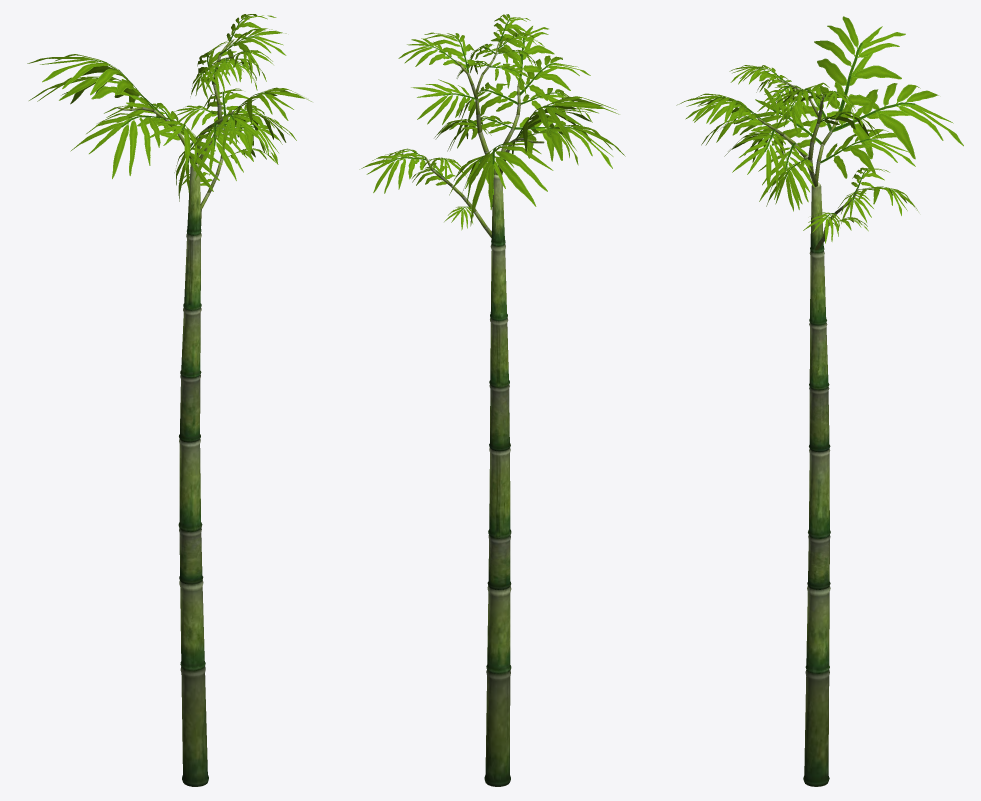
File: bamboo_a.glb
3 views of the same model, side by side, from view 1: azimuth 30°, elevation 25°; view 2: azimuth 150°, elevation 25°; view 3: azimuth 270°, elevation 25° (orthographic). The views are drawn at different scales.
Parts seen in each view (by area): view 1: Forest_bamboo_a; view 2: Forest_bamboo_a; view 3: Forest_bamboo_a.
Boxes of the visible parts, x1,y1,x2,y2 form: Forest_bamboo_a: (27, 14, 311, 786); Forest_bamboo_a: (359, 14, 625, 786); Forest_bamboo_a: (676, 16, 963, 786).
Bounding box in the file's own units: 2.87 × 8 × 3.
Materials: 3 (3 with a texture image).
